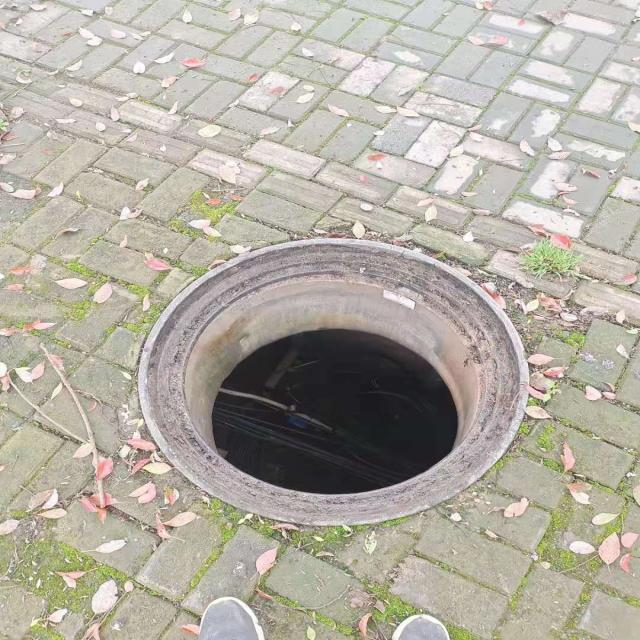Faulty: (137, 237, 530, 530)
